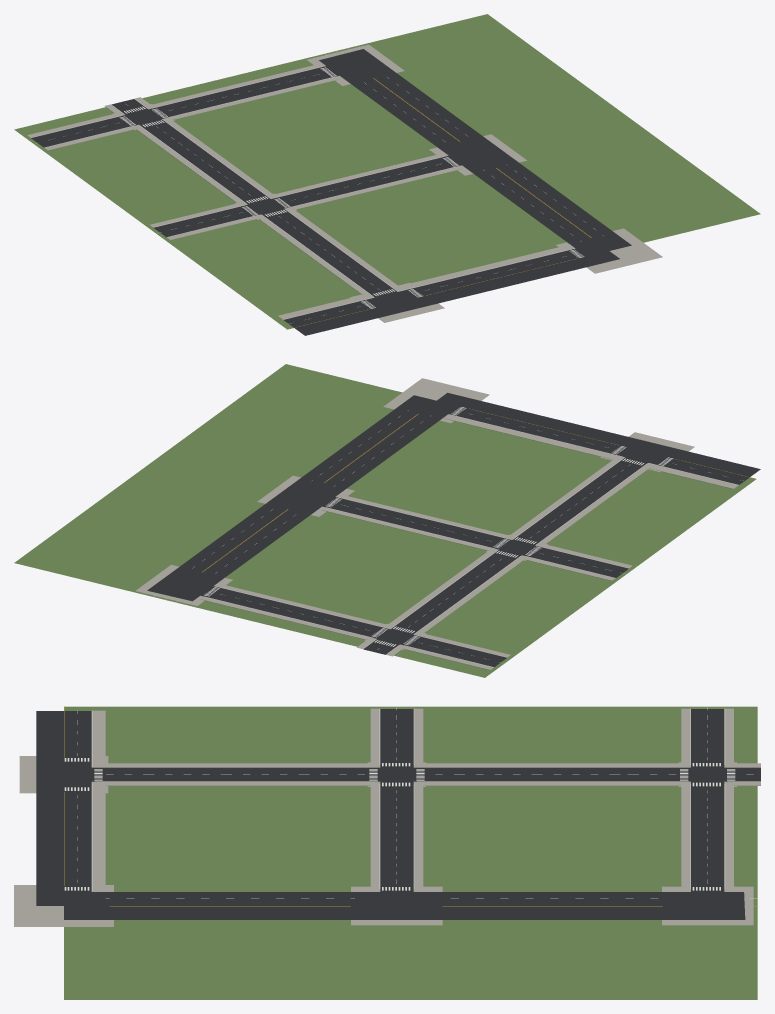
File: Ground_7_4.fbx
3 views of the same model, one above another, from view 1: azimuth 30°, elevation 25°; view 2: azimuth 150°, elevation 25°; view 3: azimuth 270°, elevation 25° (orthographic). The views are drawn at different scales.
Parts seen in each view (by area): view 1: Ground_7_4; view 2: Ground_7_4; view 3: Ground_7_4.
Boxes of the visible parts, box(x1,y1,x2,y2) form: Ground_7_4: box(14, 14, 760, 335); Ground_7_4: box(14, 364, 760, 677); Ground_7_4: box(14, 706, 760, 999).
Bounding box in the file's own units: 250 × 0.14 × 269.
